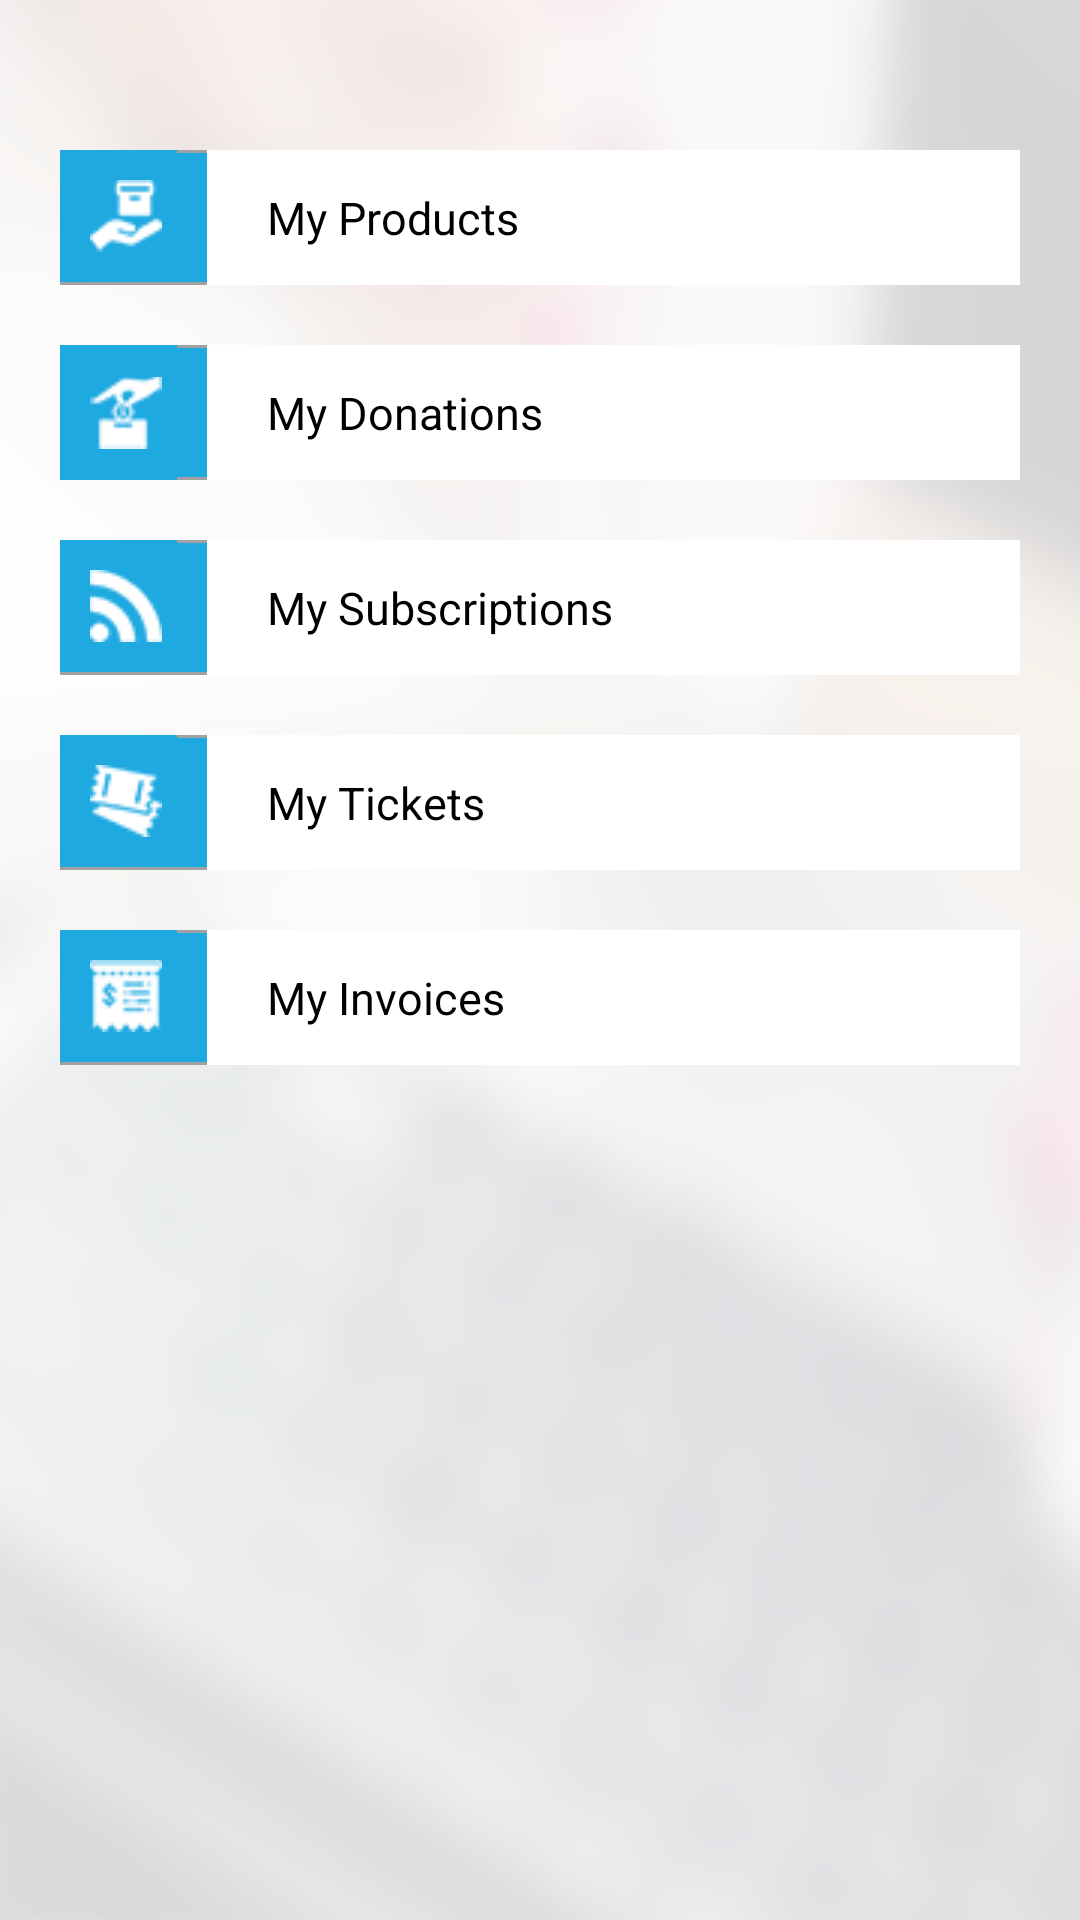

Icon click points for this 1080 × 1920 phone screenshot, format (x,y):
subscribe rss: (118,606)
tickets couple: (118,801)
